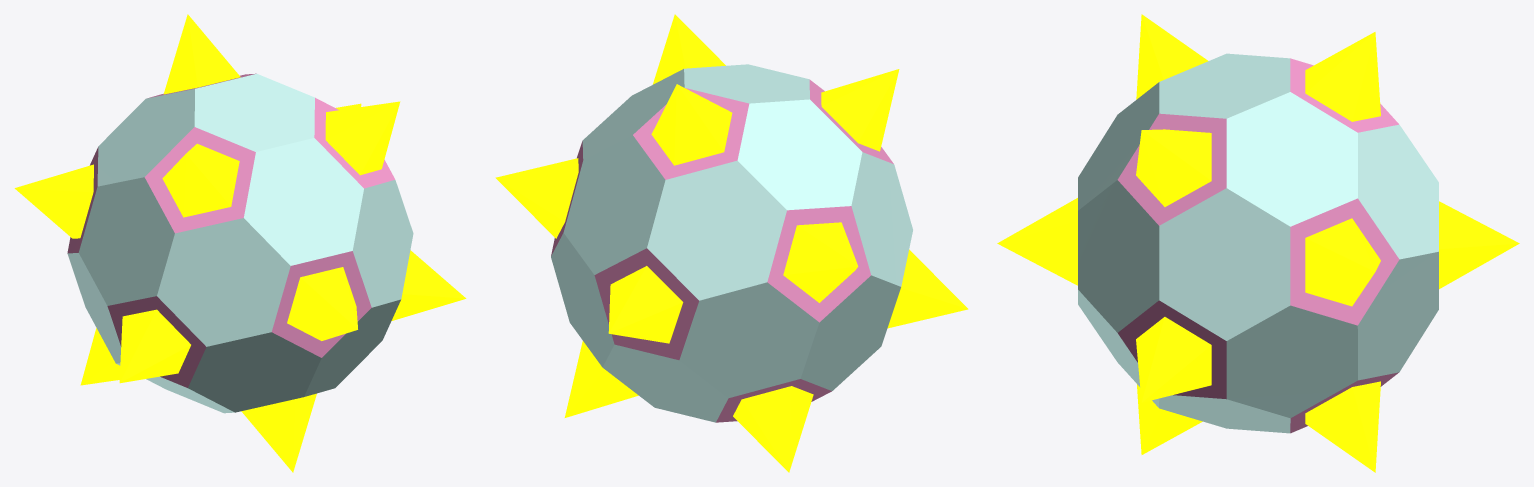
The model's file is Big_Sphere_With_Thorns.fbx.
3 renders of one model, left to right at view 1: azimuth 30°, elevation 25°; view 2: azimuth 150°, elevation 25°; view 3: azimuth 270°, elevation 25°, orthographic. The views are drawn at different scales.
Visible parts, largest first — view 1: Big_Sphere_With_Thorns; view 2: Big_Sphere_With_Thorns; view 3: Big_Sphere_With_Thorns.
Part boxes in pixels (x1,y1,x2,y2): Big_Sphere_With_Thorns: (14,14,466,472); Big_Sphere_With_Thorns: (495,14,968,472); Big_Sphere_With_Thorns: (997,14,1519,472).
Bounding box in the file's own units: 147 × 154 × 172.
